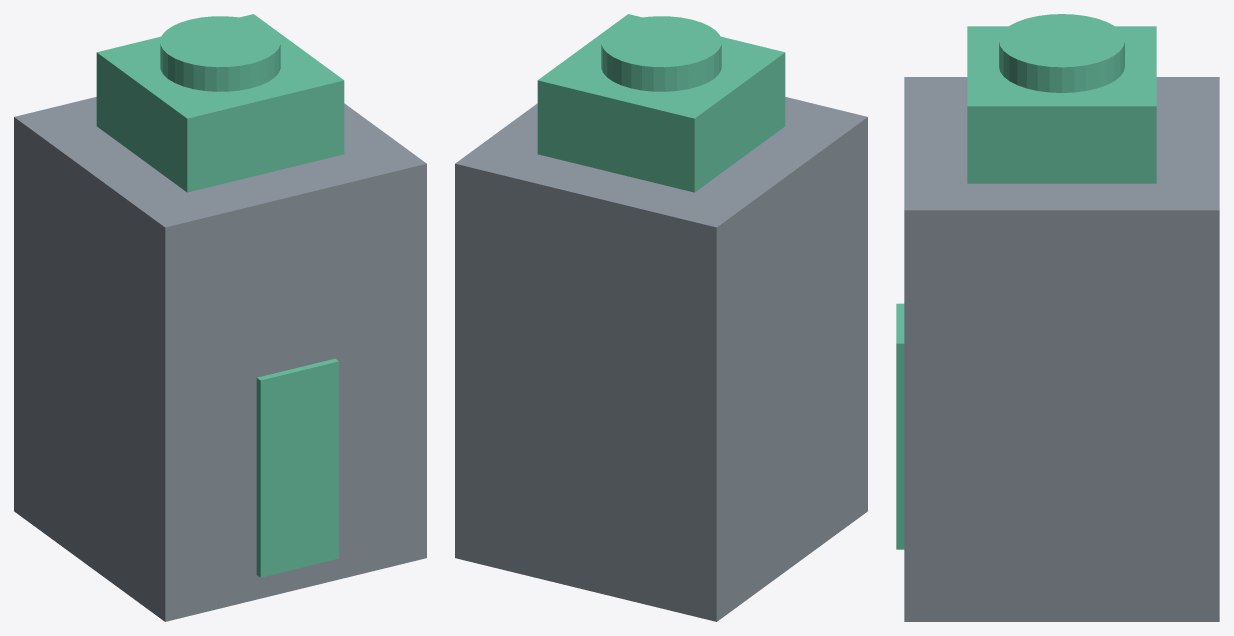
The model's file is CO_Radar_LOD0.glb.
The picture shows the model from 3 angles, left to right: view 1: azimuth 30°, elevation 25°; view 2: azimuth 150°, elevation 25°; view 3: azimuth 270°, elevation 25°; orthographic projection. The views are drawn at different scales.
Parts seen in each view (by area): view 1: EntranceGate; view 2: EntranceGate; view 3: EntranceGate.
Boxes of the visible parts, bbox=[...] form: EntranceGate: bbox=[14, 14, 426, 621]; EntranceGate: bbox=[455, 14, 867, 621]; EntranceGate: bbox=[896, 14, 1219, 621].
Bounding box in the file's own units: 400 × 720 × 410.
